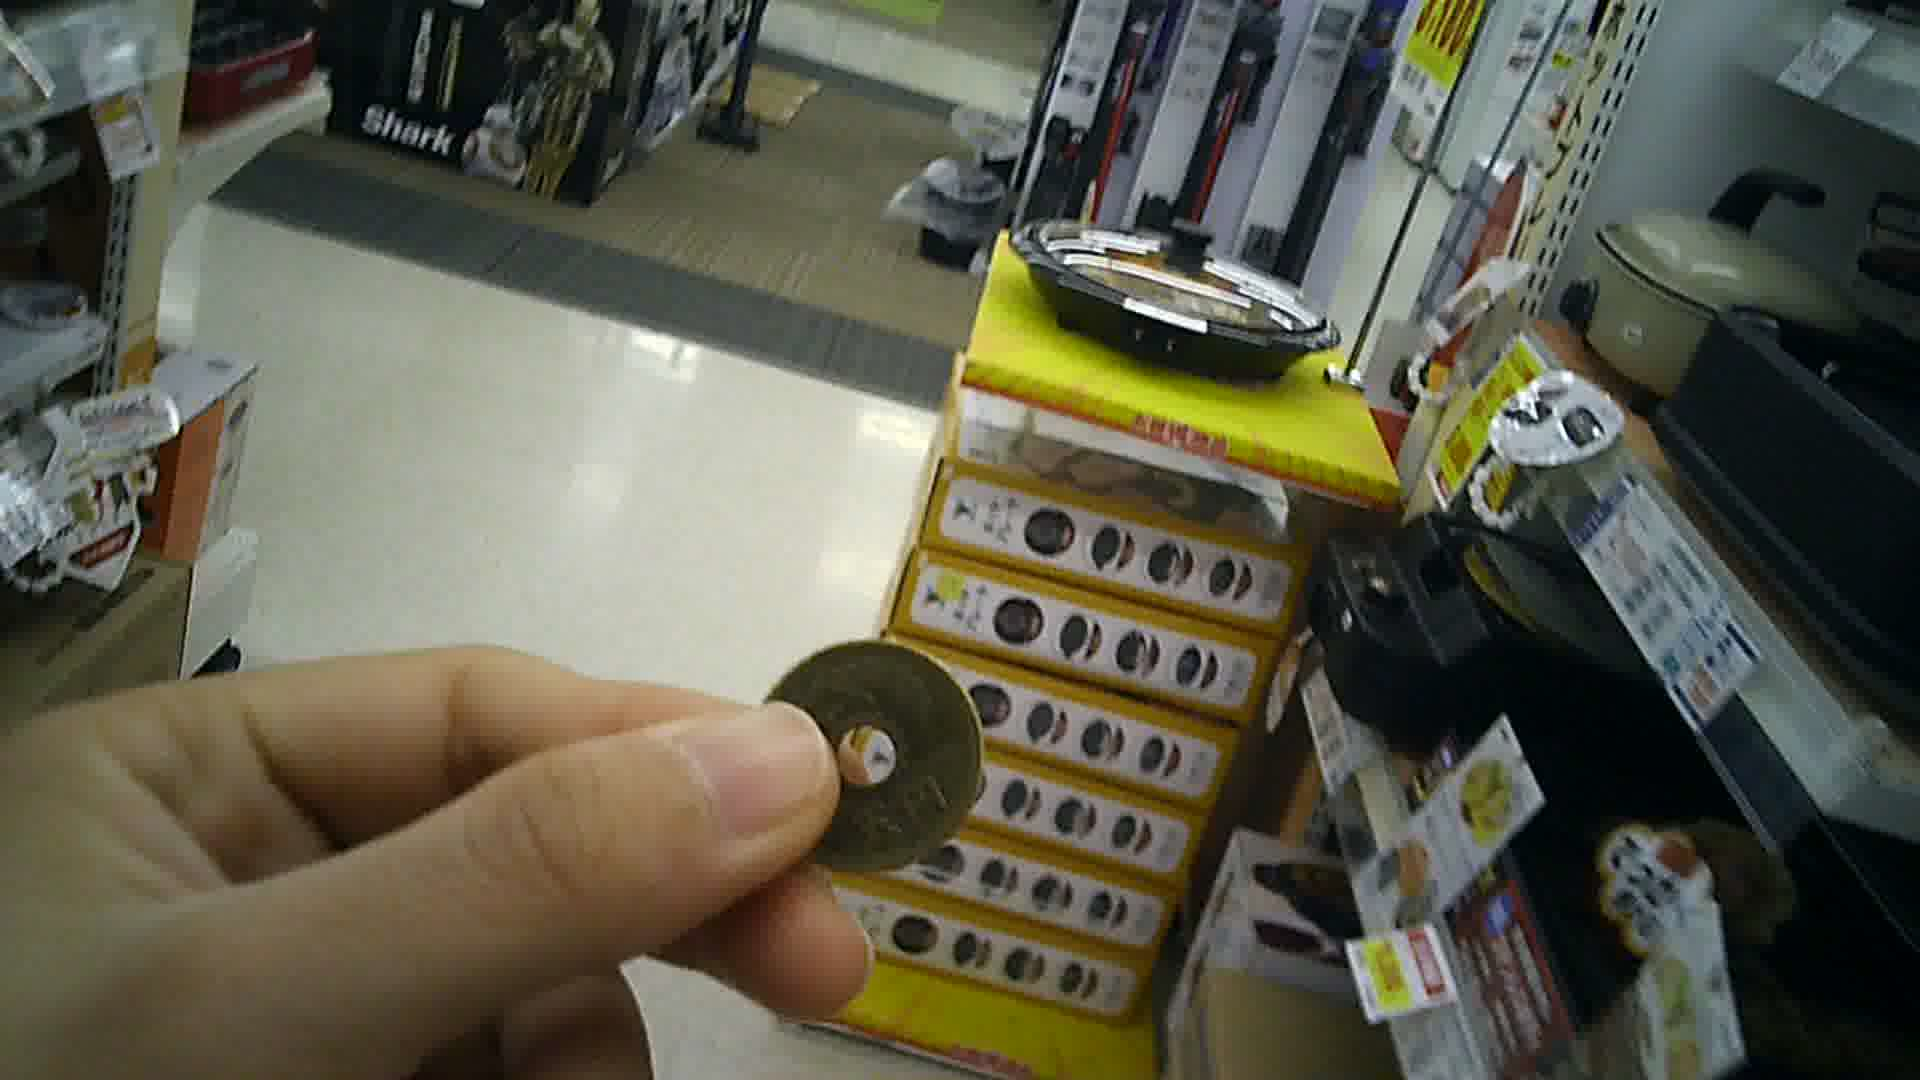5 Yen: (750, 642, 978, 878)
